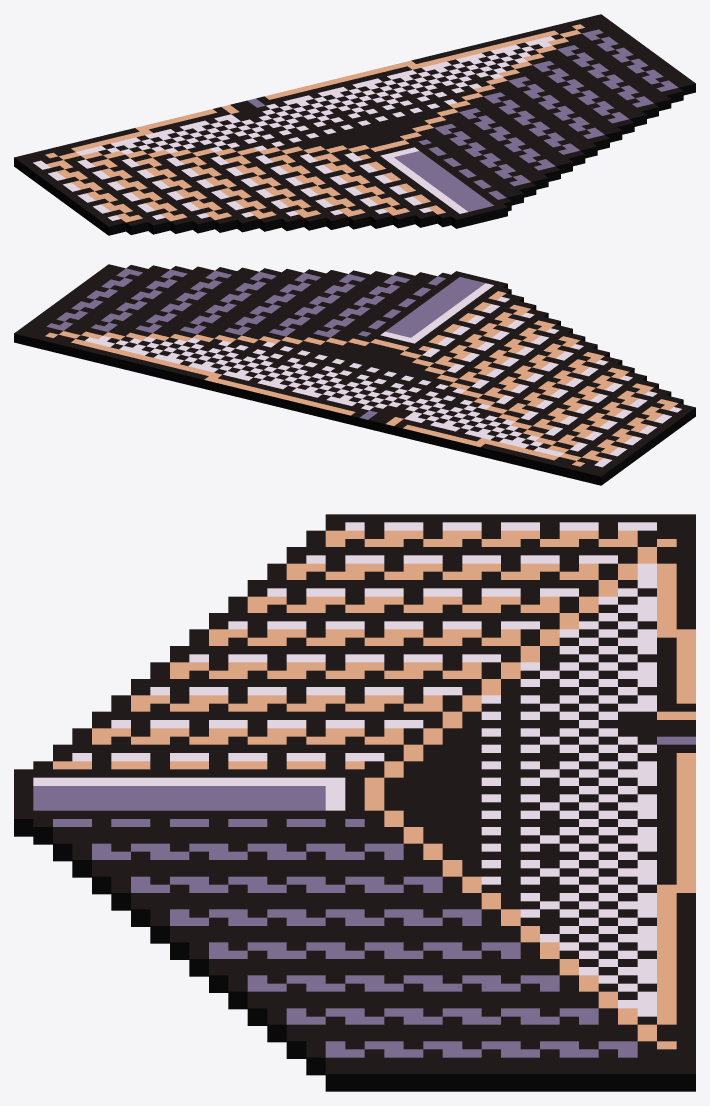
Rendered from house.glb.
3 renders of one model, top to bottom at view 1: azimuth 30°, elevation 25°; view 2: azimuth 150°, elevation 25°; view 3: azimuth 270°, elevation 25°, orthographic. The views are drawn at different scales.
Visible parts, largest first — view 1: house; view 2: house; view 3: house.
Part boxes in pixels (x1,y1,x2,y2): house: (14, 14, 695, 235); house: (14, 264, 695, 485); house: (14, 514, 695, 1091).
Size of the model in its own units: 6.8 by 0.1 by 3.5.
Materials: 1 (1 with a texture image).
